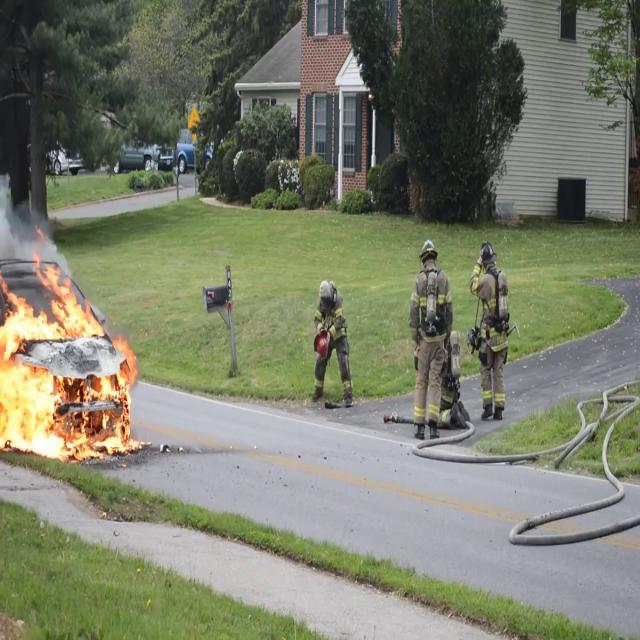Fire: (0, 258, 138, 464)
